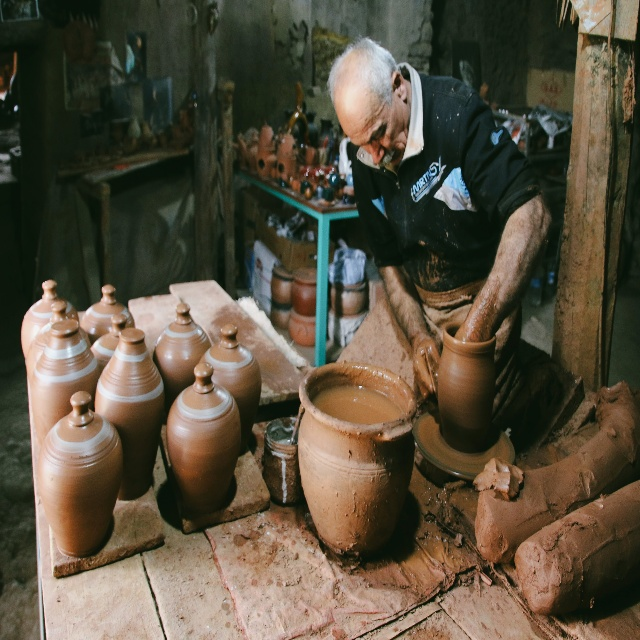Sin_guantes: (412, 334, 440, 399)
